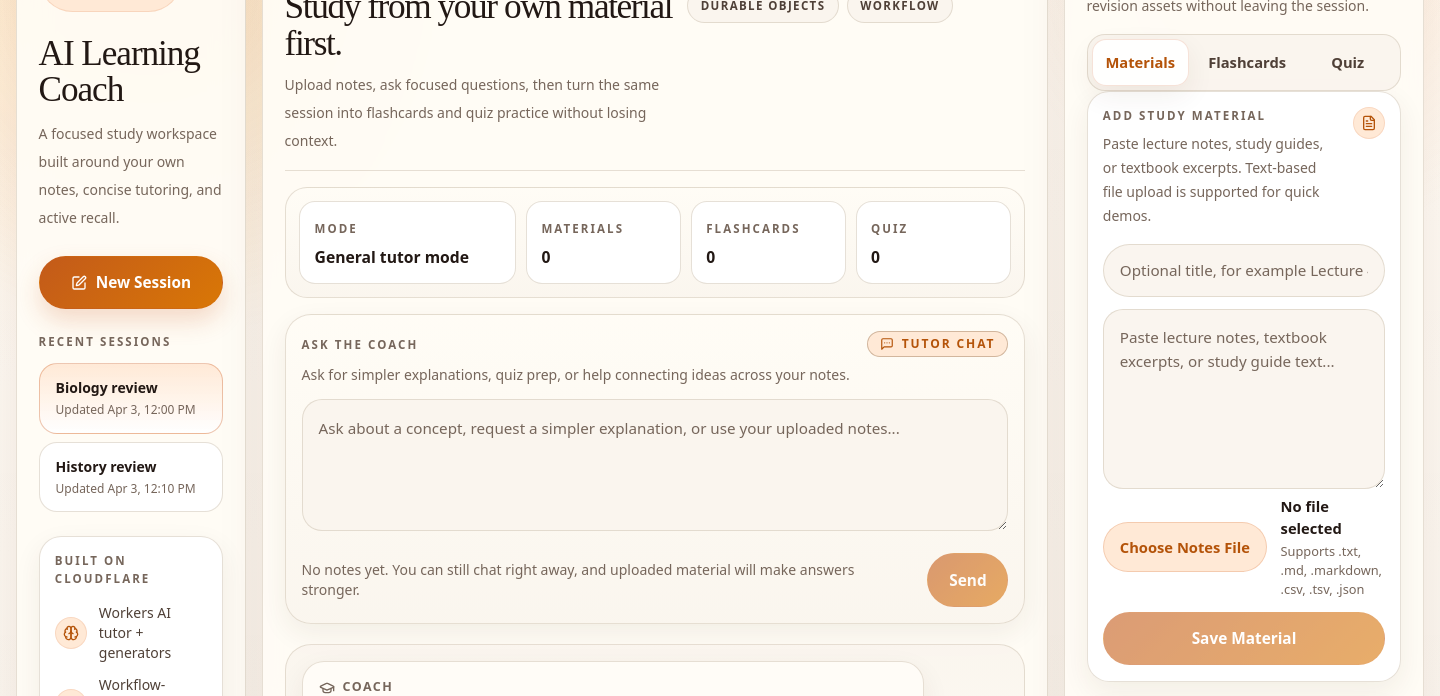
Test: AI Learning Coach app › does not overwrite the active view if the user switches sessions during a streamed reply
Check: the heading "AI Learning Coach" is shown, box 39,36 -> 223,108
Step 1. Type "Explain mitosis." into the text box with placeholder "Ask about a concept, request a simpler explanation, or use your uploaded notes..." → (655, 465), box 302,399 -> 1008,531
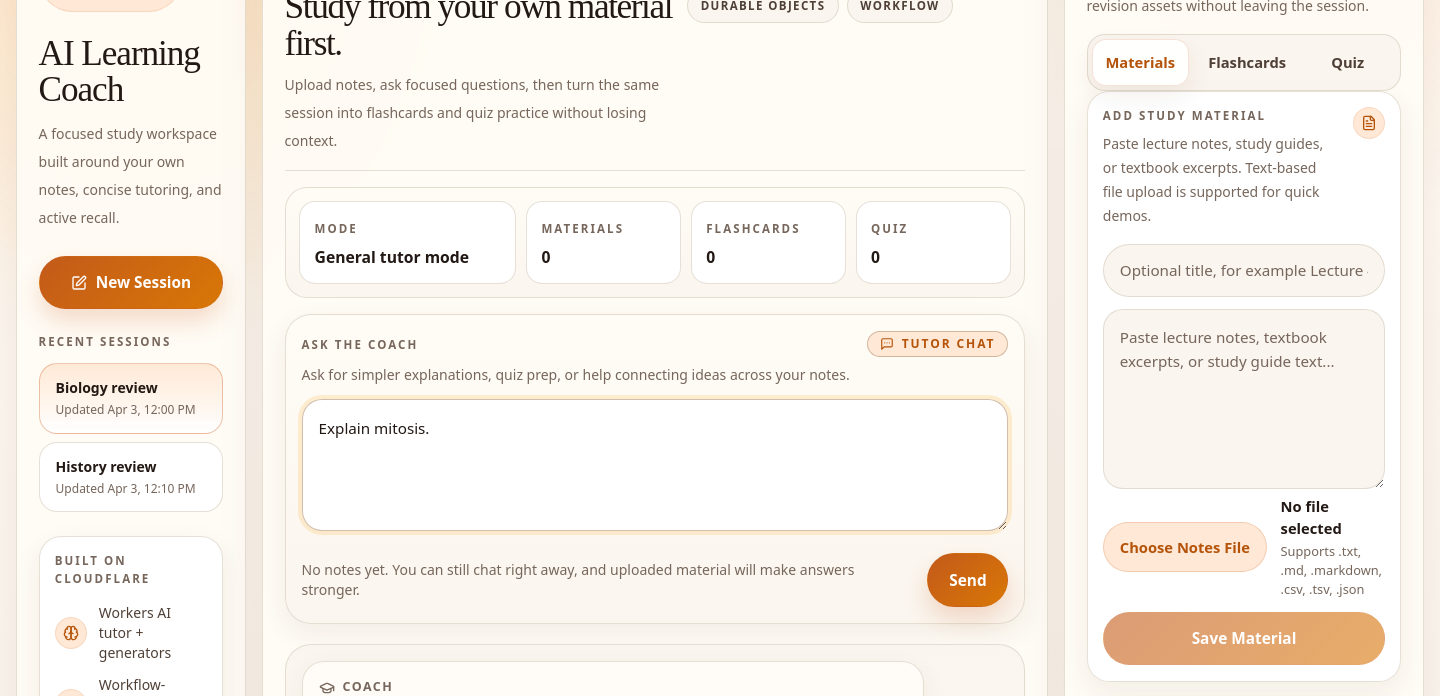
Step 2. Click the button "Send" → click(968, 580), box 928,553 -> 1008,607
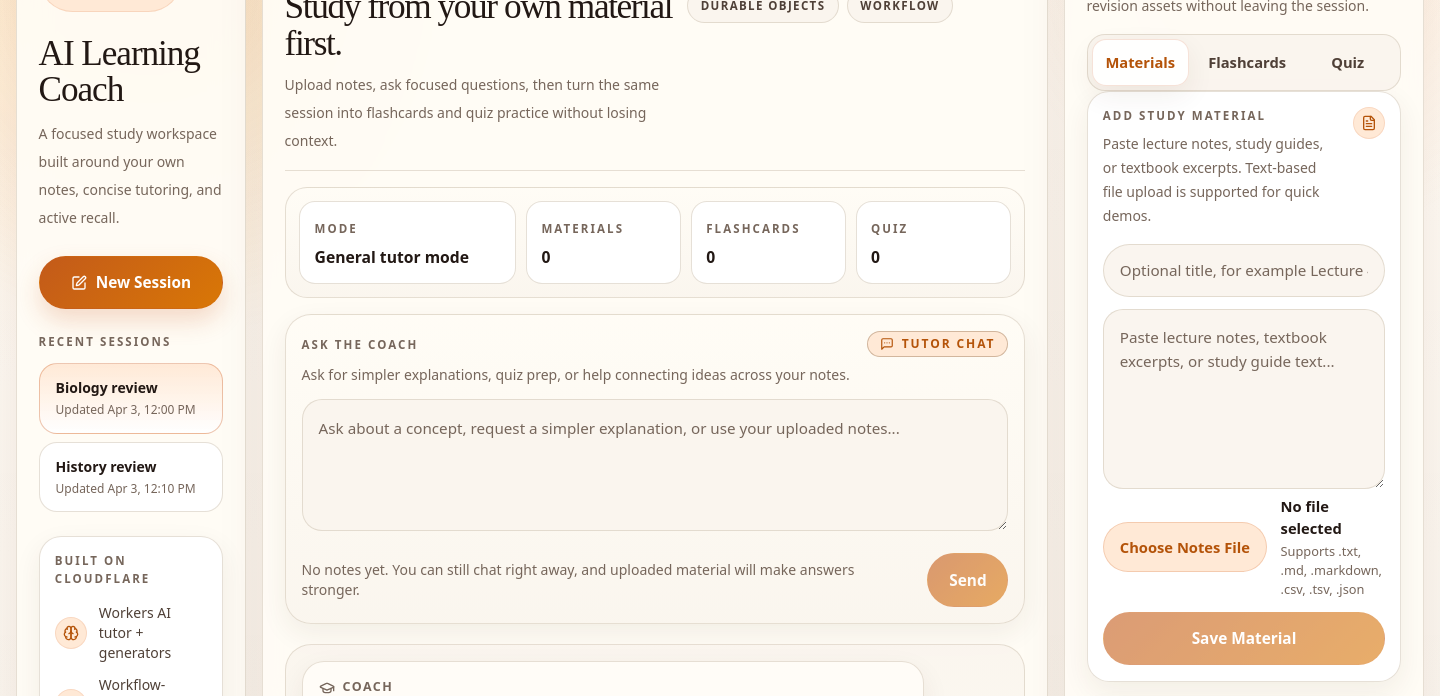
Step 3. Click the button "History review Updated Apr 3, 12:10 PM" → click(131, 477), box 39,442 -> 223,512
(page scrolled)
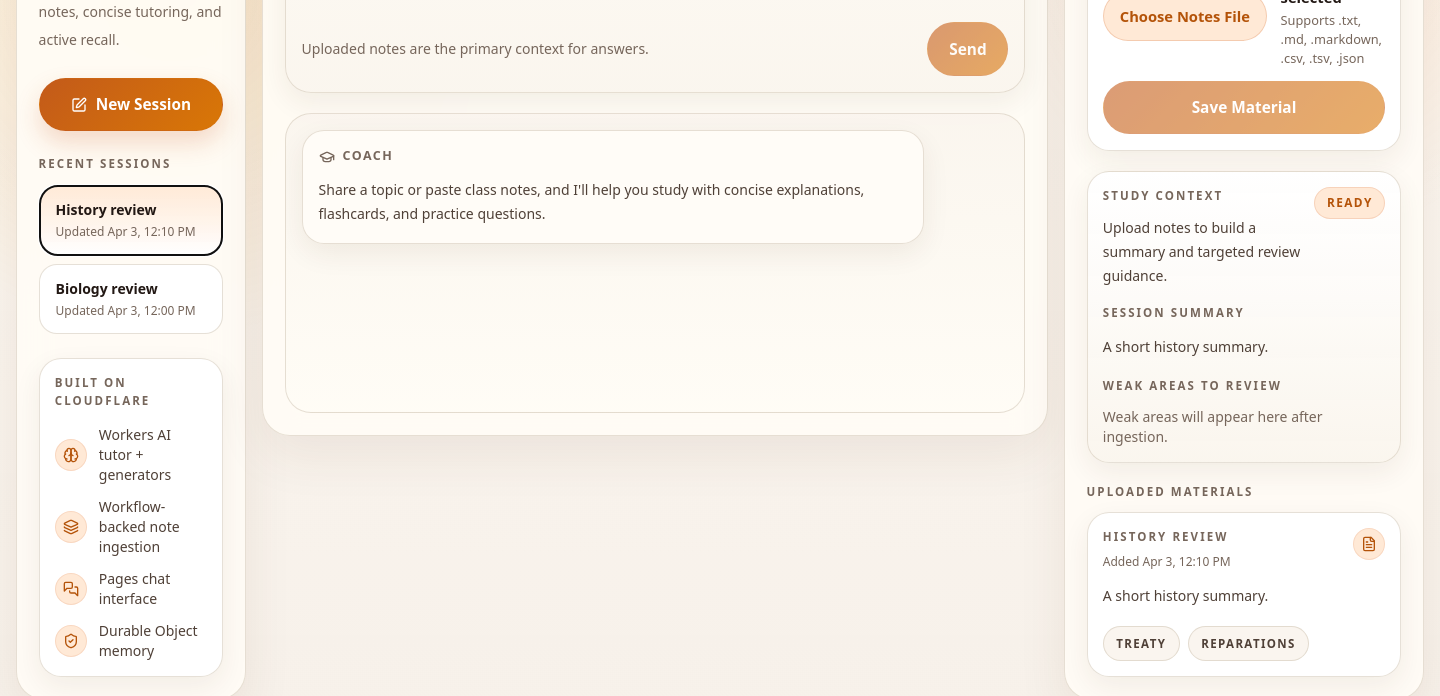
Check: the text "A short history summary." below "Session summary" is shown, box 1103,337 -> 1268,356
